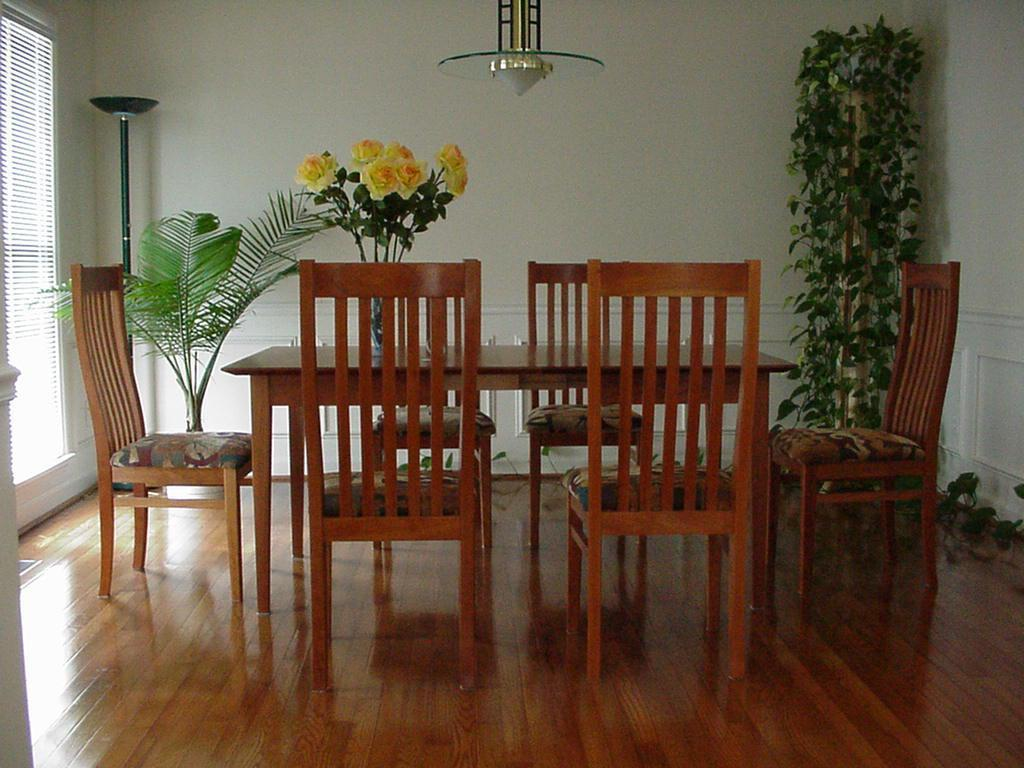Ventana: (17, 34, 57, 493)
